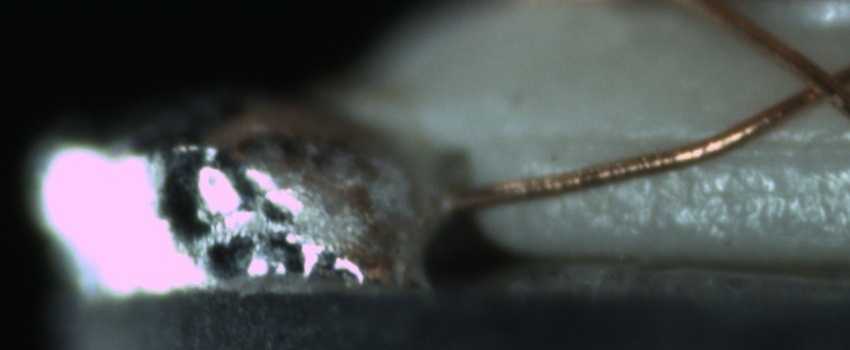CL: (777, 50, 848, 117)
DL: (516, 113, 842, 176)
